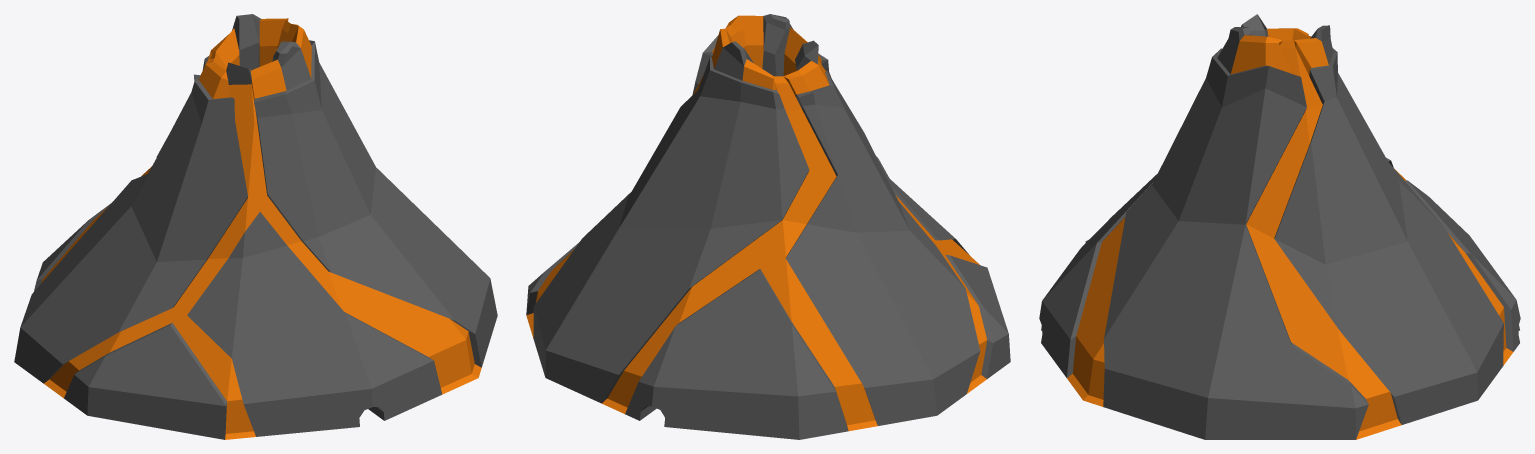
The model's file is Volcano.fbx.
The picture shows the model from 3 angles, left to right: view 1: azimuth 30°, elevation 25°; view 2: azimuth 150°, elevation 25°; view 3: azimuth 270°, elevation 25°; orthographic projection. The views are drawn at different scales.
Visible parts, largest first — view 1: Volcano; view 2: Volcano; view 3: Volcano.
Boxes of the visible parts, <box> form: Volcano: <box>14,14,497,439</box>; Volcano: <box>526,14,1010,439</box>; Volcano: <box>1039,14,1520,439</box>.
Bounding box in the file's own units: 160 × 115 × 158.
